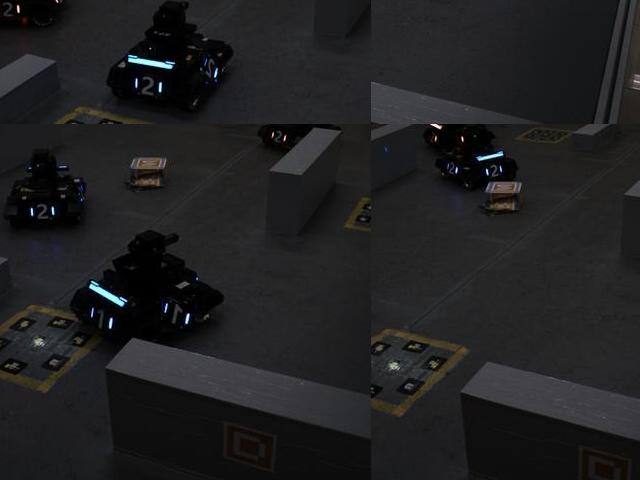armor: (81, 295, 117, 341), (161, 296, 196, 334), (129, 70, 167, 103), (23, 199, 59, 226), (200, 54, 223, 84), (0, 0, 27, 22), (479, 162, 508, 181), (267, 126, 290, 148), (440, 158, 462, 177), (426, 131, 441, 148)
